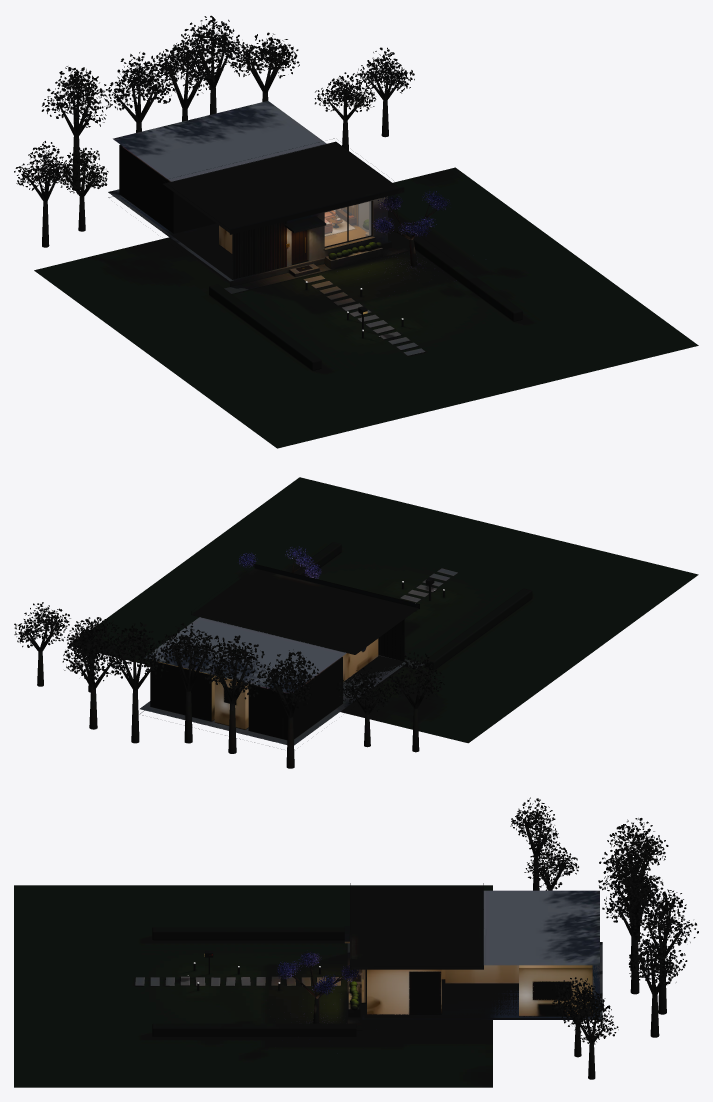
Rendered from walkway-mobile.glb.
The picture shows the model from 3 angles, top to bottom: view 1: azimuth 30°, elevation 25°; view 2: azimuth 150°, elevation 25°; view 3: azimuth 270°, elevation 25°; orthographic projection. The views are drawn at different scales.
Visible parts, largest first — view 1: Ground, Static, Foliage, Studio, Interior, Front, WindowGlass; view 2: Ground, Static, Foliage, Interior, Studio, Front; view 3: Ground, Static, Foliage, Interior, Front.
Part boxes in pixels (bbox=[...]): Ground: bbox=[34, 167, 698, 448]; Static: bbox=[28, 42, 522, 370]; Foliage: bbox=[14, 15, 456, 295]; Studio: bbox=[119, 144, 215, 233]; Interior: bbox=[108, 189, 391, 281]; Front: bbox=[219, 201, 371, 254]; WindowGlass: bbox=[325, 201, 370, 246]; Ground: bbox=[72, 477, 698, 743]; Static: bbox=[27, 542, 532, 768]; Foliage: bbox=[14, 546, 444, 712]; Interior: bbox=[140, 655, 407, 744]; Studio: bbox=[248, 657, 342, 739]; Front: bbox=[342, 638, 378, 682]; Ground: bbox=[14, 885, 492, 1087]; Static: bbox=[135, 825, 680, 1079]; Foliage: bbox=[276, 797, 698, 1044]; Interior: bbox=[362, 942, 602, 1019]; Front: bbox=[367, 969, 441, 1014].
Bounding box in the file's own units: 26.47 × 7.38 × 37.17.
Materials: 10 (8 with a texture image).
